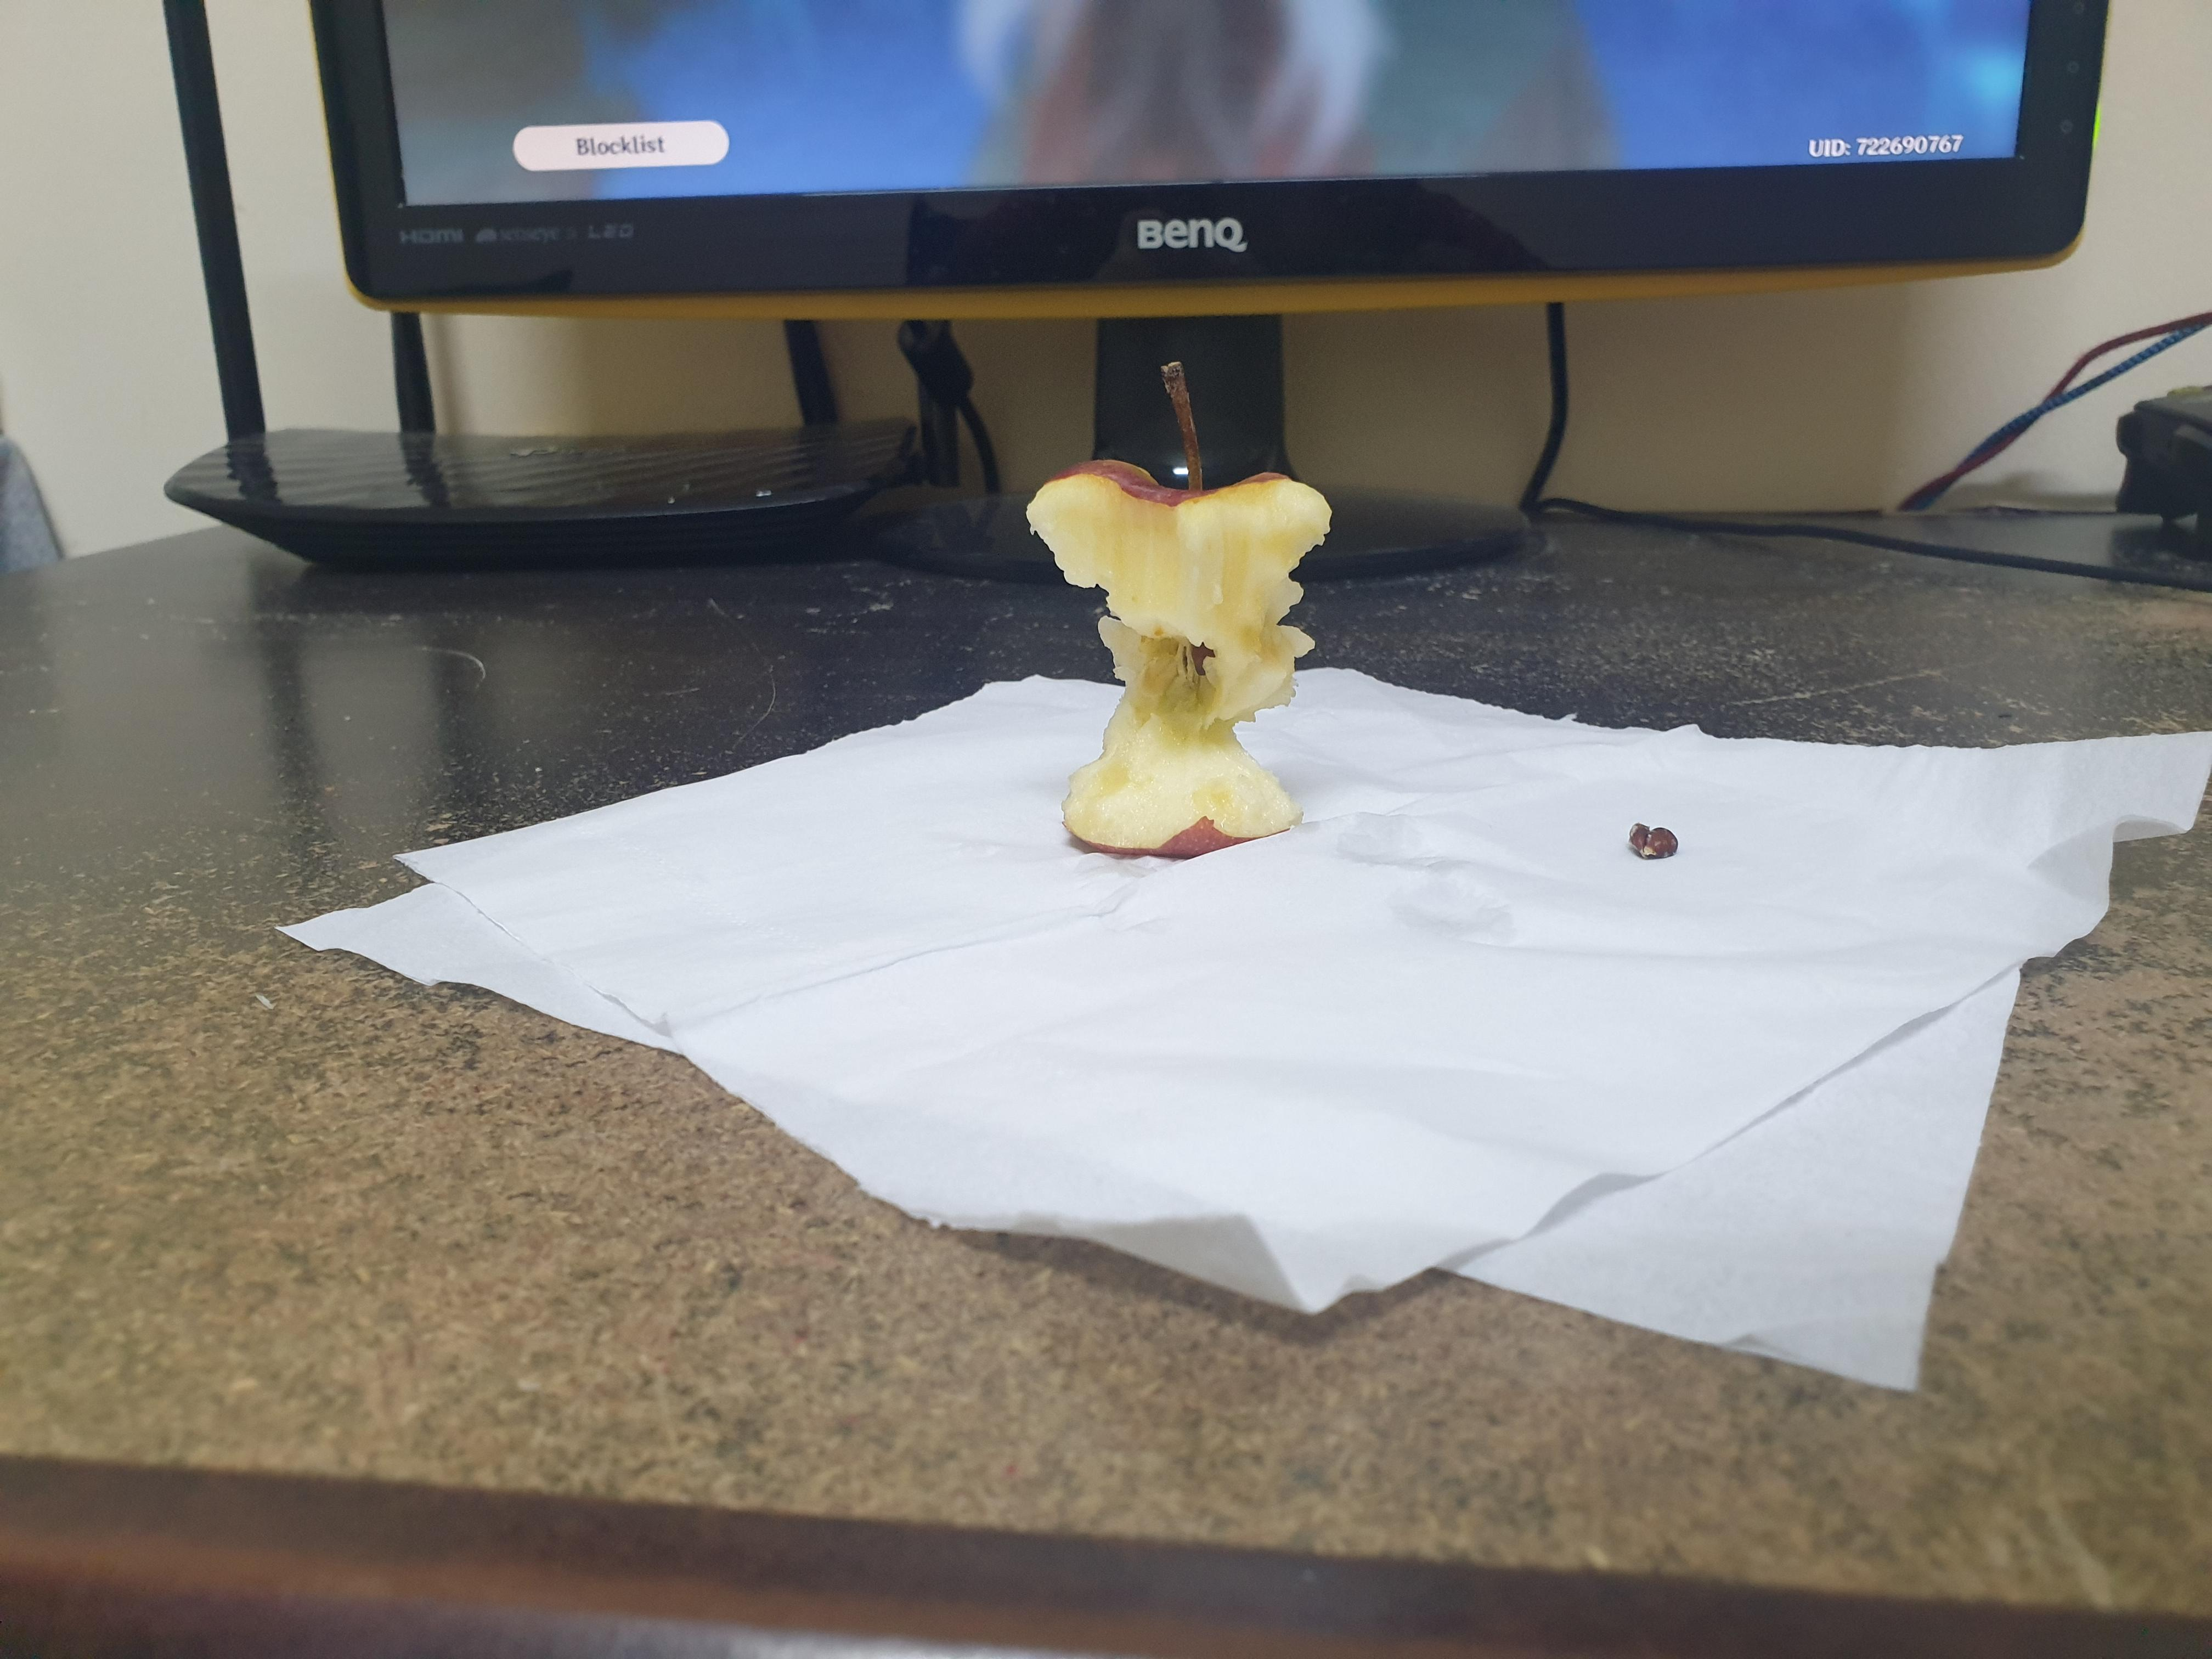Apple: (1001, 328, 1359, 894)
